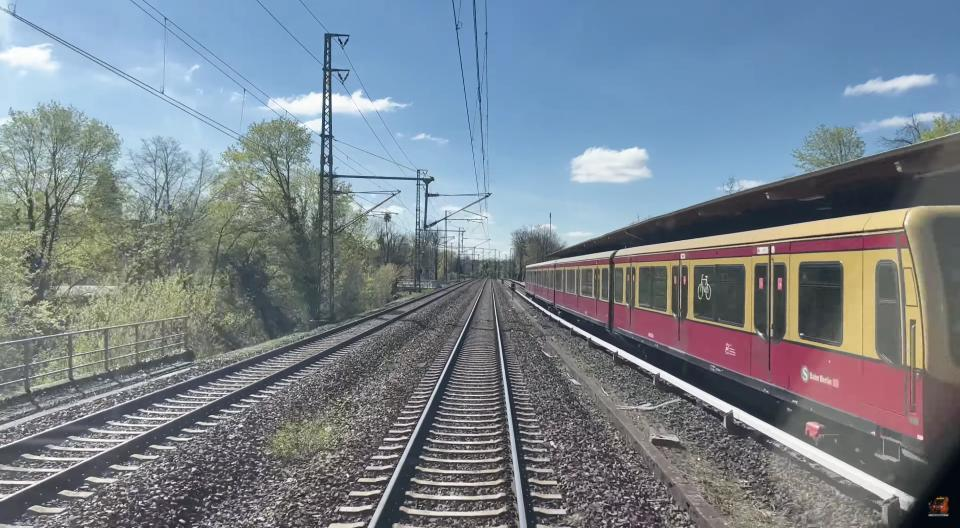Plant: (268, 417, 339, 459)
